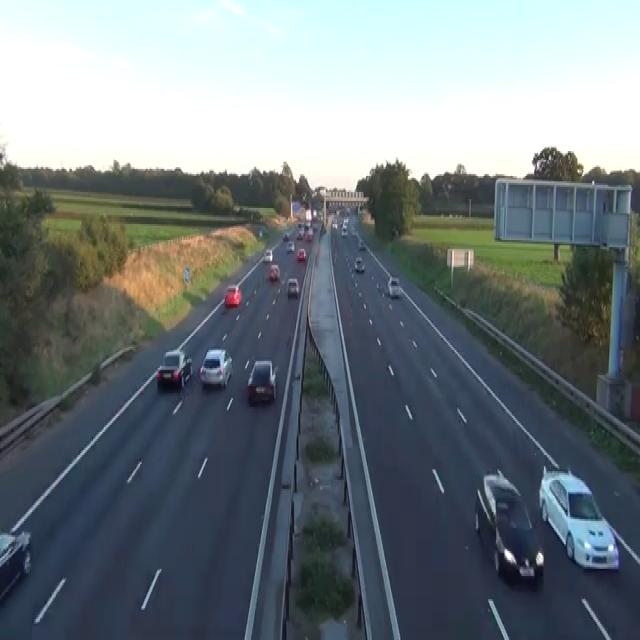Car: (538, 464, 619, 571), (474, 468, 544, 583), (474, 468, 521, 535), (0, 526, 31, 604), (156, 348, 192, 389), (247, 359, 278, 404), (199, 347, 232, 388), (224, 284, 241, 306), (287, 277, 299, 299), (387, 275, 399, 297), (269, 263, 279, 281), (354, 256, 365, 272), (297, 247, 306, 261), (263, 247, 272, 261), (305, 228, 313, 242), (285, 240, 294, 252), (319, 222, 326, 235), (358, 238, 365, 249), (296, 229, 303, 240), (340, 226, 347, 236), (282, 231, 289, 240), (332, 218, 338, 228), (305, 218, 311, 228), (343, 215, 349, 224), (351, 228, 357, 236), (258, 228, 262, 238), (318, 212, 323, 220)
